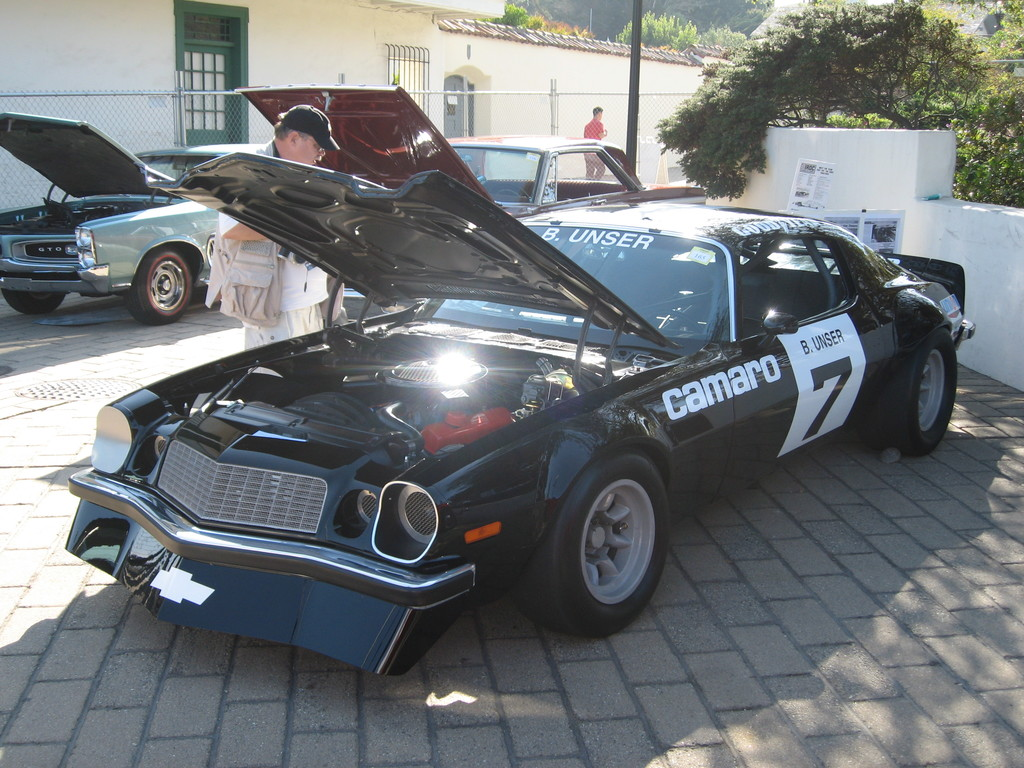mobil: (186, 198, 986, 668)
